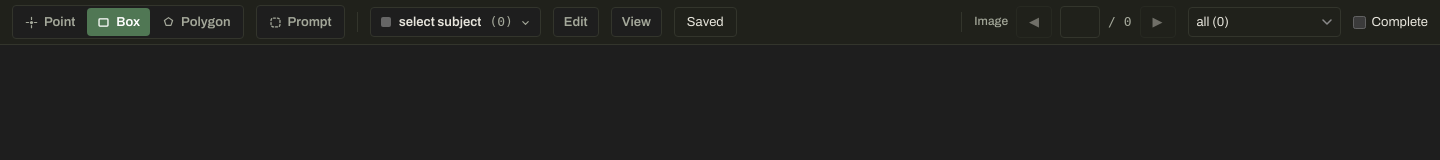
Test: AnnotateToolbar subject authoring › registers a typed name with its surrounding whitespace stripped and its description
This screenshot has width=1440, height=160.
Click the button "select subject (0)" at (455, 22), box [370,7,541,37]
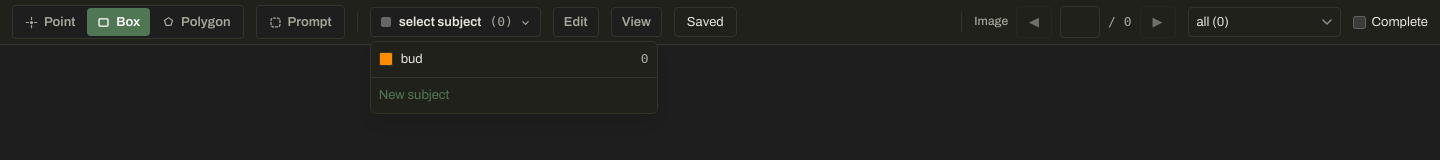
Click the button "New subject" at (414, 95), box [371,82,657,109]
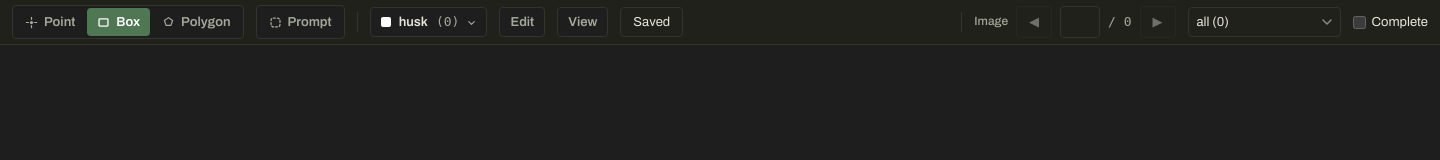
Expected: the text "husk" is shown, [399,13,428,31]
